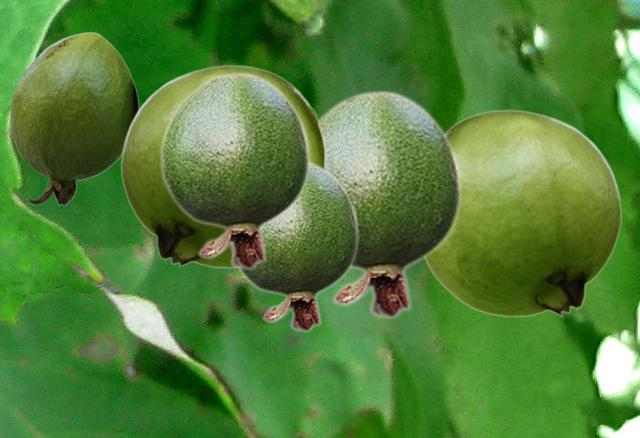guava: (120, 64, 325, 267), (425, 109, 621, 317), (319, 89, 462, 319), (159, 71, 310, 270), (229, 161, 359, 332), (10, 32, 138, 205)
